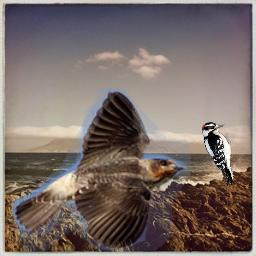Swallow: (12, 88, 191, 251)
Woodpecker: (202, 122, 234, 186)
